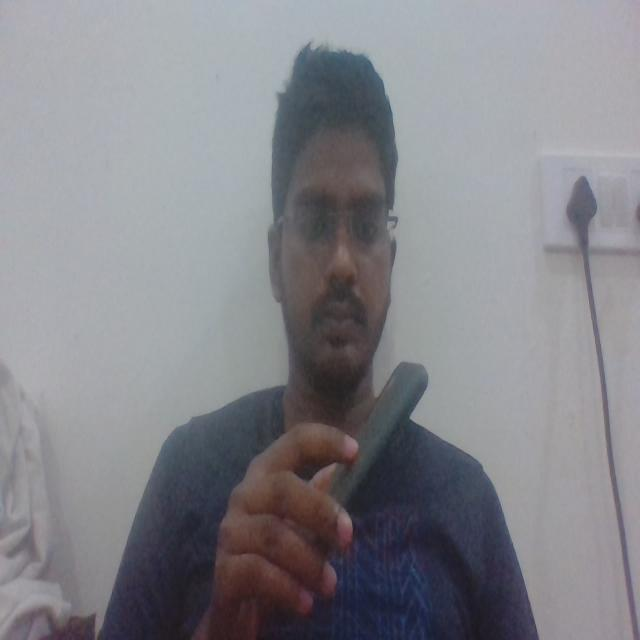Phone: (322, 357, 430, 510)
